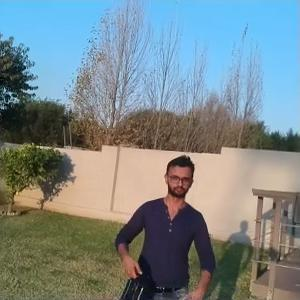follow: (112, 150, 223, 298)
